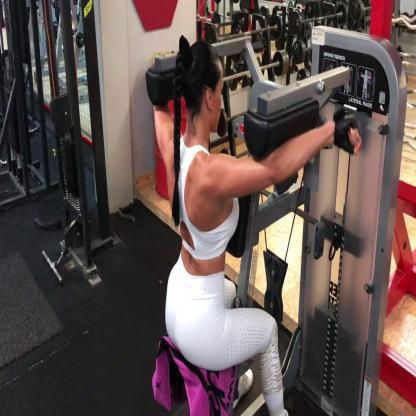lateral raises machine: (144, 23, 406, 416)
